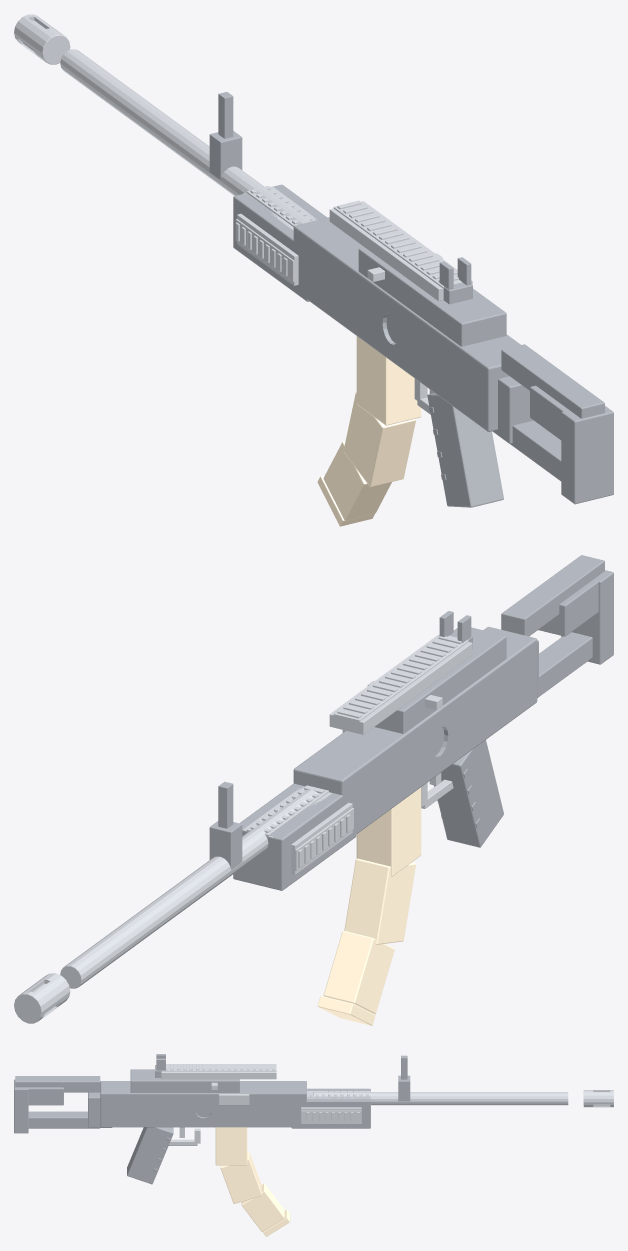
3 views of the same model, one above another, from view 1: azimuth 30°, elevation 25°; view 2: azimuth 150°, elevation 25°; view 3: azimuth 270°, elevation 25° (orthographic). The views are drawn at different scales.
Parts seen in each view (by area): view 1: Receiver, mag, Barrel, Grip, CarryHandleBase, TopRail, StockPlate, StockArmTop, StockIrons, Handguard, RailL, StockArmBottom (+4 smaller); view 2: Receiver, mag, Barrel, TopRail, Handguard, Grip, CarryHandleBase, StockArmTop, StockIrons, RailL, StockArmBottom, StockPlate (+3 smaller); view 3: Receiver, mag, Barrel, TopRail, CarryHandleBase, Grip, Handguard, StockArmTop, StockArmBottom, RailR, CheekRest, StockIrons (+5 smaller).
Part boxes in pixels (x1,y1,x2,y2): Receiver: (293,217,520,431); mag: (317,336,421,526); Barrel: (60,49,311,224); Grip: (427,393,503,507); CarryHandleBase: (358,247,506,346); TopRail: (329,200,472,301); StockPlate: (561,406,613,504); StockArmTop: (501,344,604,418); StockIrons: (209,92,472,304); Handguard: (233,184,326,301); RailL: (235,213,298,285); StockArmBottom: (510,420,561,481); Receiver: (293,627,537,834); mag: (317,787,421,1025); Barrel: (60,789,317,988); TopRail: (329,634,472,734); Handguard: (233,783,356,890); Grip: (433,740,503,847); CarryHandleBase: (375,627,506,733); StockArmTop: (501,555,604,636); StockIrons: (209,611,472,869); RailL: (291,802,353,874); StockArmBottom: (539,632,592,696); StockPlate: (561,570,613,664); Receiver: (100,1081,306,1127); mag: (215,1127,290,1236); Barrel: (313,1092,568,1105); TopRail: (161,1064,276,1079); CarryHandleBase: (130,1069,239,1092); Grip: (127,1127,173,1184); Handguard: (291,1088,370,1128); StockArmTop: (15,1076,100,1092); StockArmBottom: (28,1111,99,1128); RailR: (301,1107,361,1123); CheekRest: (15,1087,63,1105); StockIrons: (155,1054,410,1101).
Bounding box in the file's own units: 0.07 × 0.3194 × 0.987.
